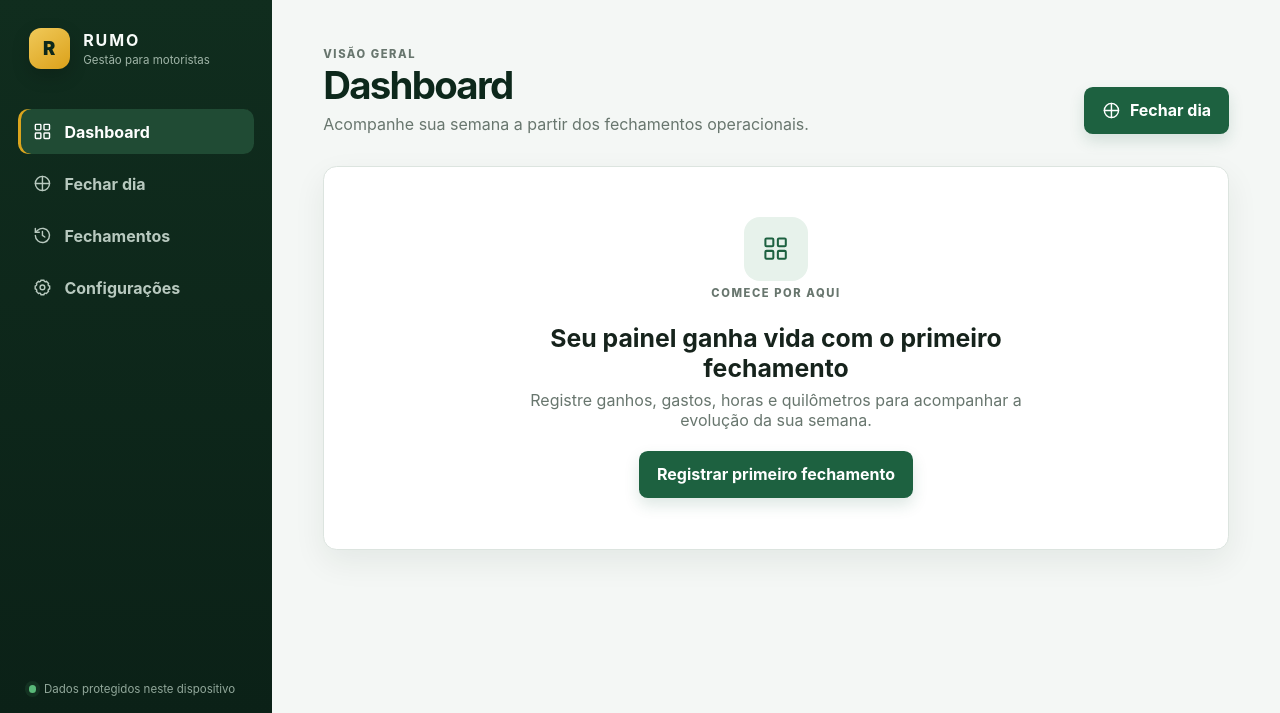
it: primeira vertical do aplicativo › mostra validação obrigatória próxima ao campo de data
The image size is (1280, 713).
Step 1. Click the button "Fechar dia" below "Gestão para motoristas" → {"x": 136, "y": 184}, box [18,161,254,206]
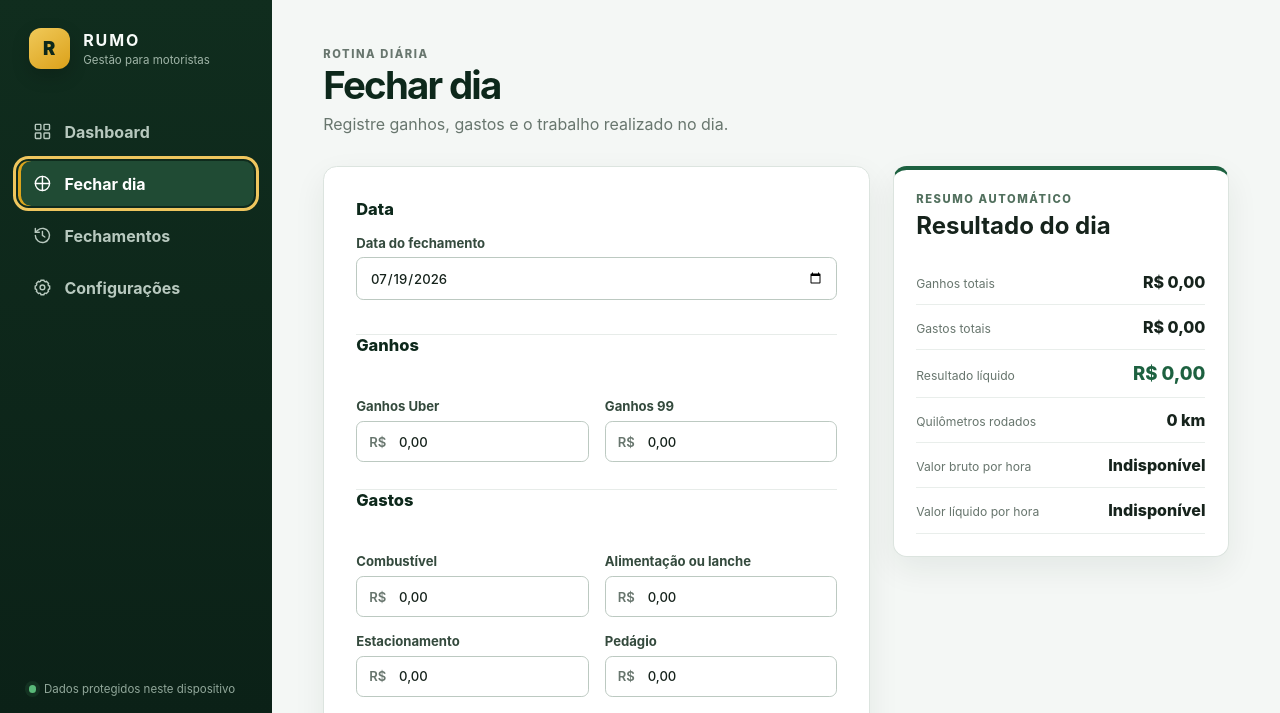
Step 2. Clear the date field labelled "Data do fechamento" → {"x": 597, "y": 279}, box [356,257,837,300]
(page scrolled)
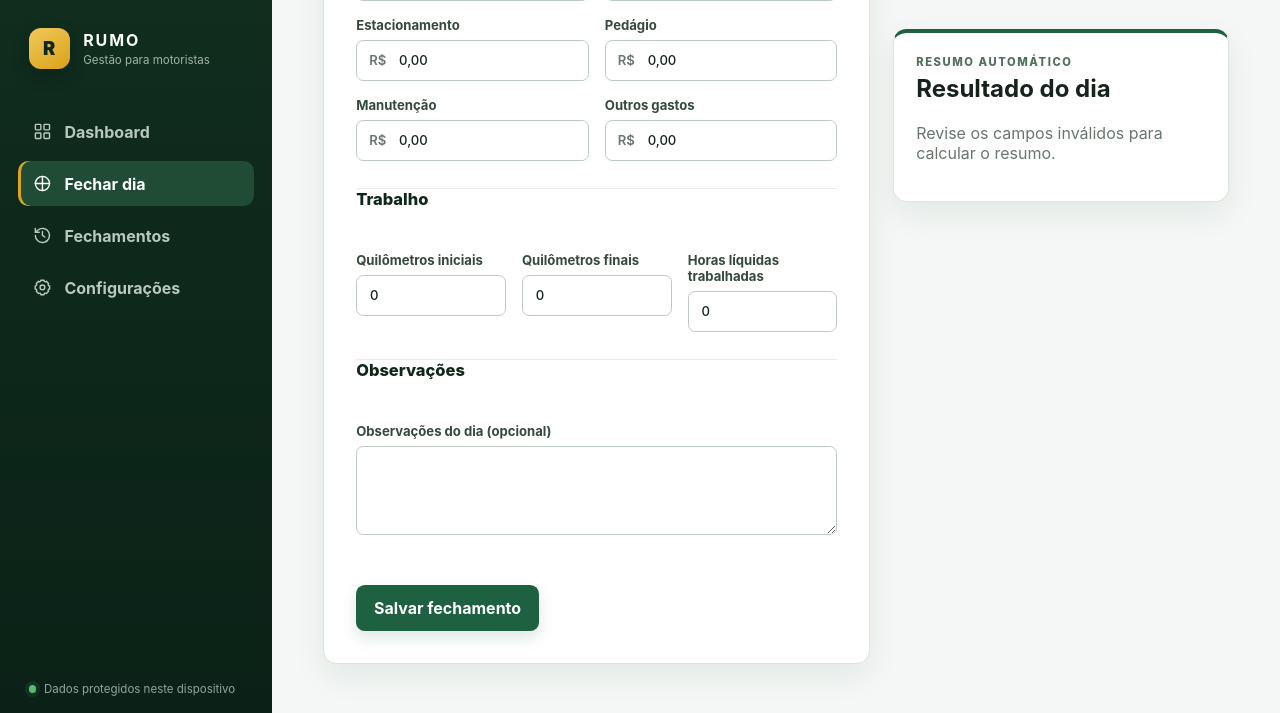
Step 3. Click the button "Salvar fechamento" → {"x": 448, "y": 608}, box [356,584,539,631]
(page scrolled)
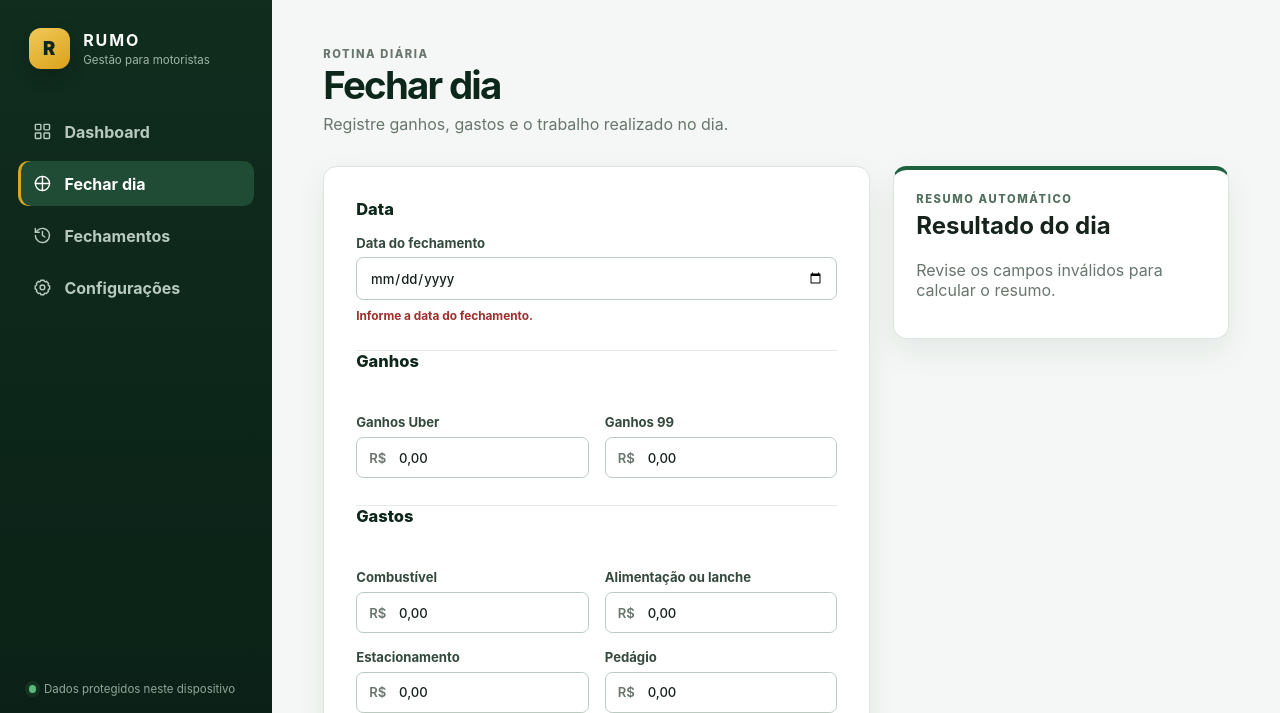
Expected: the text "Informe a data do fechamento." is shown, [356,309,533,323]
